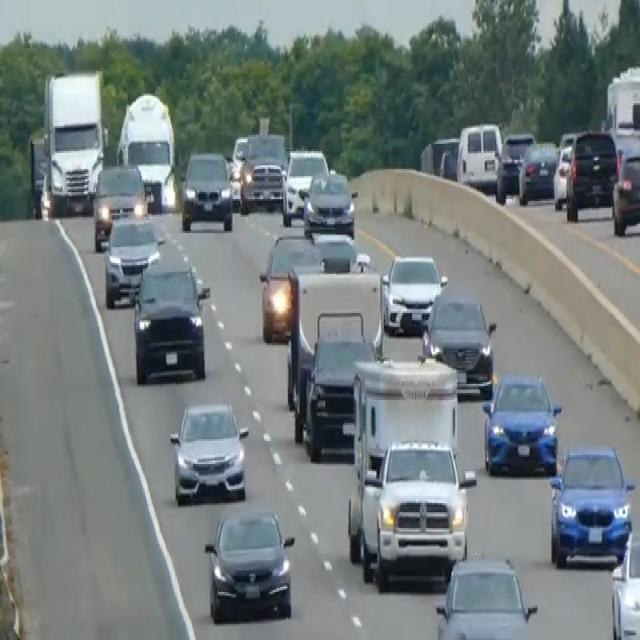bus: (39, 68, 105, 218)
car: (203, 505, 295, 622), (549, 443, 635, 567), (132, 252, 210, 384), (168, 398, 249, 505), (434, 555, 538, 638), (481, 370, 561, 476), (422, 288, 496, 398), (258, 226, 323, 341), (102, 210, 163, 308), (381, 251, 447, 336), (565, 127, 618, 220), (91, 162, 147, 250), (180, 148, 233, 231), (302, 167, 357, 238), (280, 146, 329, 224), (455, 119, 502, 192), (610, 528, 639, 638), (495, 130, 535, 202), (517, 137, 558, 204), (239, 154, 285, 212), (611, 148, 639, 235), (419, 134, 459, 180), (552, 132, 575, 210)
truck: (346, 354, 460, 562), (286, 268, 383, 412), (115, 89, 178, 211)
